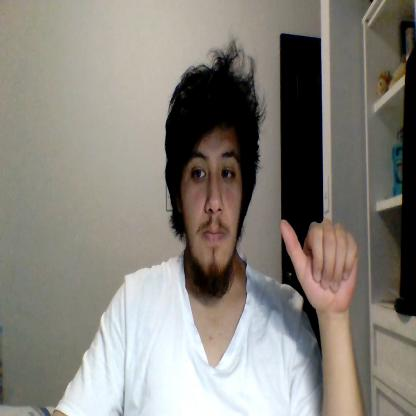A: (282, 218, 358, 309)
